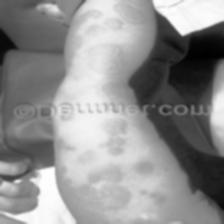Toxin: (68, 163, 134, 215), (71, 0, 149, 41), (86, 42, 130, 100), (97, 118, 135, 158), (140, 188, 178, 202), (135, 158, 159, 176), (57, 138, 82, 152), (62, 114, 78, 124)
